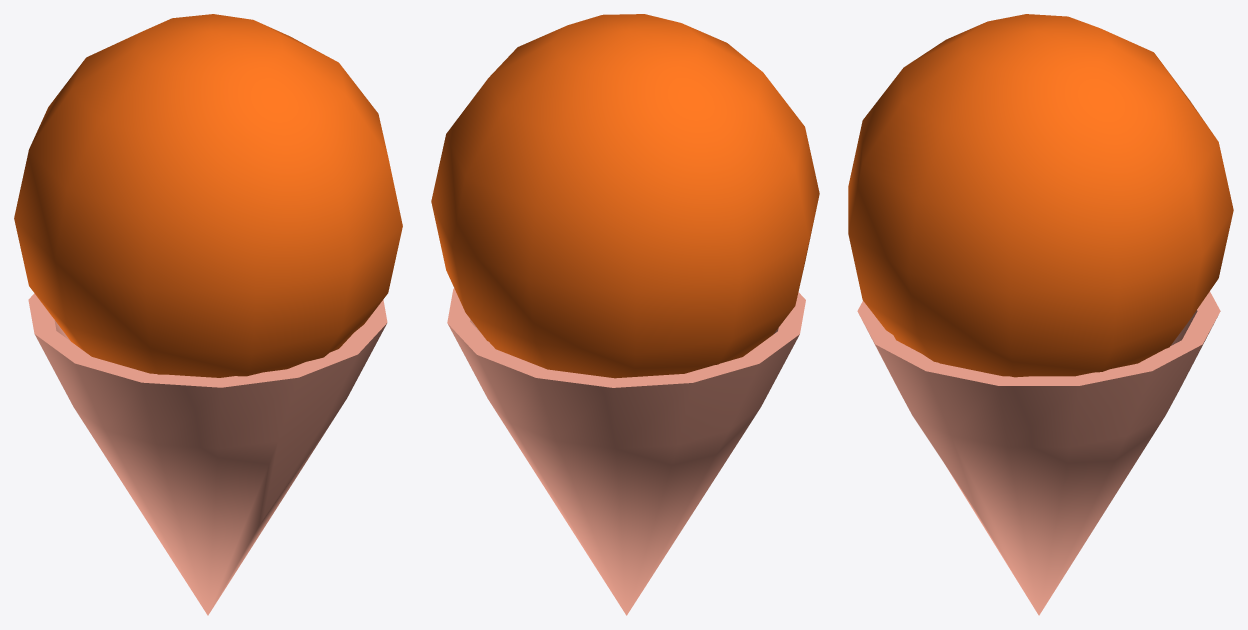
The model's file is 18_IceCream_1.fbx.
3 views of the same model, side by side, from view 1: azimuth 30°, elevation 25°; view 2: azimuth 150°, elevation 25°; view 3: azimuth 270°, elevation 25° (orthographic).
Visible parts, largest first — view 1: Sphere.021, Cone.008; view 2: Sphere.021, Cone.008; view 3: Sphere.021, Cone.008.
Boxes of the visible parts, <box> form: Sphere.021: <box>14,14,402,377</box>; Cone.008: <box>28,293,387,615</box>; Sphere.021: <box>431,14,819,378</box>; Cone.008: <box>447,288,805,615</box>; Sphere.021: <box>848,14,1233,377</box>; Cone.008: <box>857,291,1220,615</box>.
Size of the model in its own units: 45.68 by 75.66 by 45.22.
